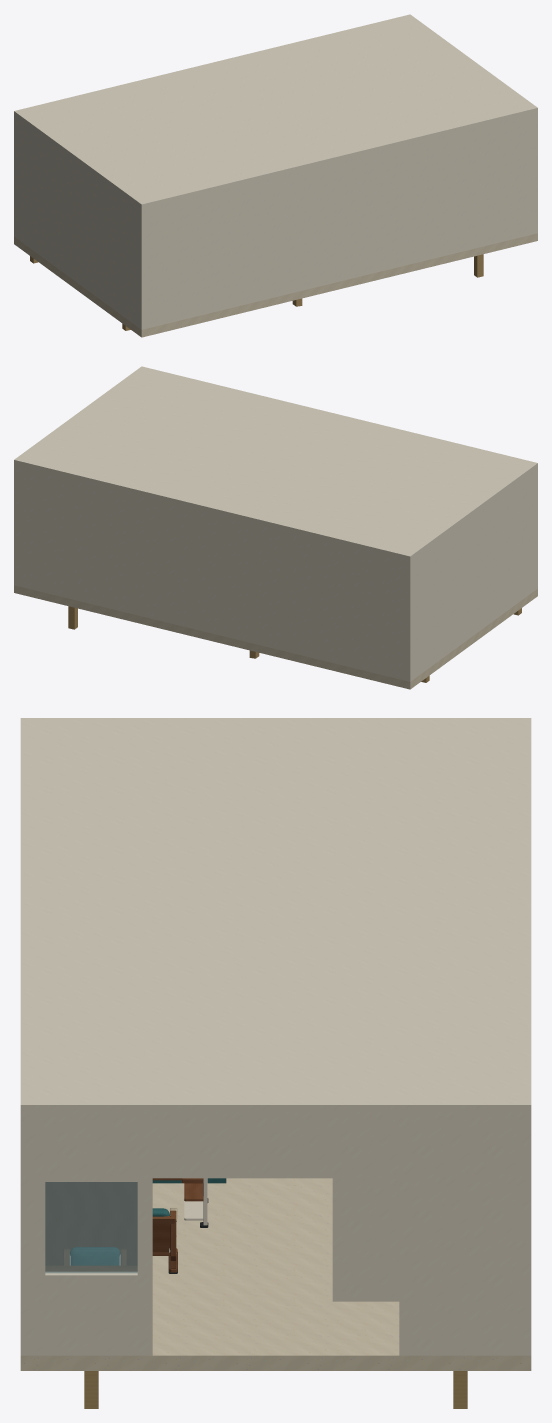
Rendered from StarAtlasSpecialty_545.glb.
The picture shows the model from 3 angles, top to bottom: view 1: azimuth 30°, elevation 25°; view 2: azimuth 150°, elevation 25°; view 3: azimuth 270°, elevation 25°; orthographic projection. The views are drawn at different scales.
Visible parts, largest first — view 1: SA545_Ceiling, SA545_NorthSide, SA545_OpaqueRearBoundary, SA545_RoomFloor; view 2: SA545_Ceiling, SA545_SouthSide, SA545_OpaqueRearBoundary, SA545_RoomFloor; view 3: SA545_Ceiling, SA545_RoomFloor, SA545_EntryShoulderSouth, SA545_EntryHeader, SA545_StreetWindowLower, SA545_ScreenedStreetGlass, SA545_WashEntrySide, SA545_StreetWindowUpper, SA545_EntryPrivacyDogleg, SA545_NorthSide, SA545_SouthSide, SA545_StreetWindowOuterPier (+2 smaller).
Part boxes in pixels (left/top/right/bottom): SA545_Ceiling: left=14, top=14, right=537, bottom=209; SA545_NorthSide: left=139, top=113, right=537, bottom=329; SA545_OpaqueRearBoundary: left=16, top=118, right=139, bottom=327; SA545_RoomFloor: left=14, top=233, right=537, bottom=337; SA545_Ceiling: left=14, top=366, right=537, bottom=561; SA545_SouthSide: left=14, top=465, right=412, bottom=681; SA545_OpaqueRearBoundary: left=412, top=470, right=535, bottom=679; SA545_RoomFloor: left=14, top=585, right=537, bottom=689; SA545_Ceiling: left=20, top=718, right=531, bottom=1115; SA545_RoomFloor: left=20, top=1178, right=531, bottom=1370; SA545_EntryShoulderSouth: left=399, top=1115, right=522, bottom=1355; SA545_EntryHeader: left=148, top=1115, right=403, bottom=1178; SA545_StreetWindowLower: left=29, top=1272, right=152, bottom=1355; SA545_ScreenedStreetGlass: left=45, top=1182, right=137, bottom=1272; SA545_WashEntrySide: left=332, top=1178, right=399, bottom=1301; SA545_StreetWindowUpper: left=29, top=1115, right=152, bottom=1181; SA545_EntryPrivacyDogleg: left=45, top=1182, right=137, bottom=1265; SA545_NorthSide: left=20, top=1115, right=28, bottom=1355; SA545_SouthSide: left=523, top=1115, right=531, bottom=1355; SA545_StreetWindowOuterPier: left=29, top=1182, right=45, bottom=1275.
Bounding box in the file's own units: 12.9 × 5.31 × 7.2.
Materials: 79 (49 with a texture image).
